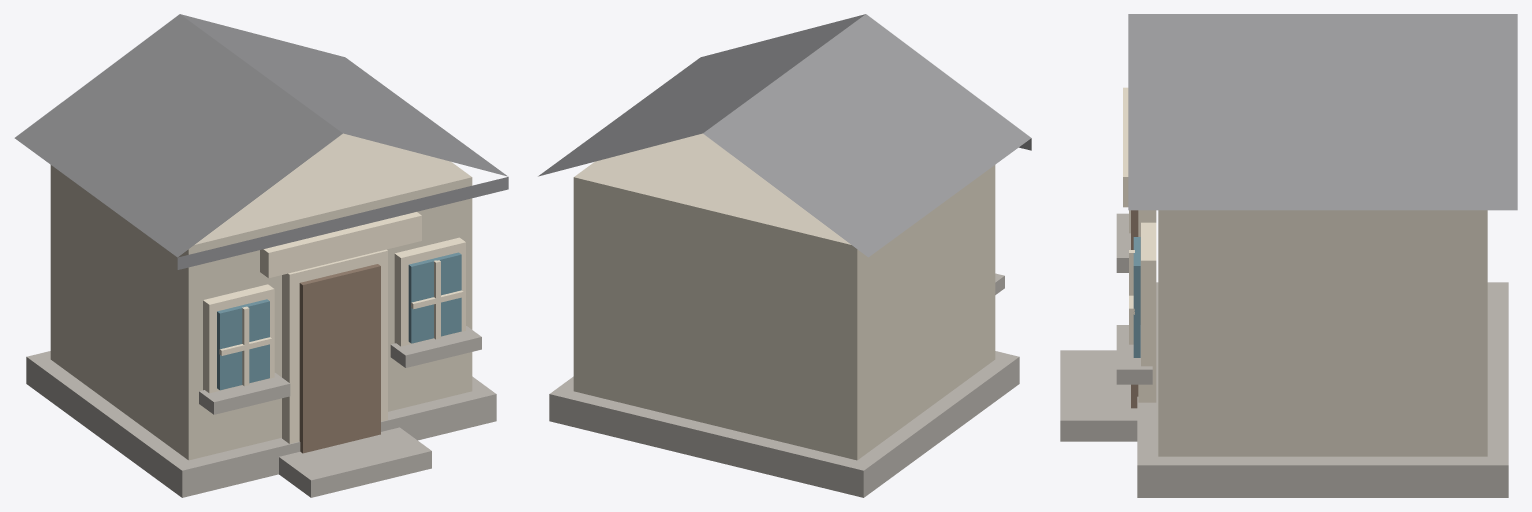
Rendered from archive_1985.gltf.
The picture shows the model from 3 angles, left to right: view 1: azimuth 30°, elevation 25°; view 2: azimuth 150°, elevation 25°; view 3: azimuth 270°, elevation 25°; orthographic projection. The views are drawn at different scales.
Parts seen in each view (by area): view 1: archive; view 2: archive; view 3: archive.
Part boxes in pixels (x1=…): archive: x1=14, y1=14, x2=508, y2=497; archive: x1=538, y1=14, x2=1031, y2=497; archive: x1=1060, y1=14, x2=1517, y2=497.
Size of the model in its own units: 3.56 by 3.38 by 3.57.
